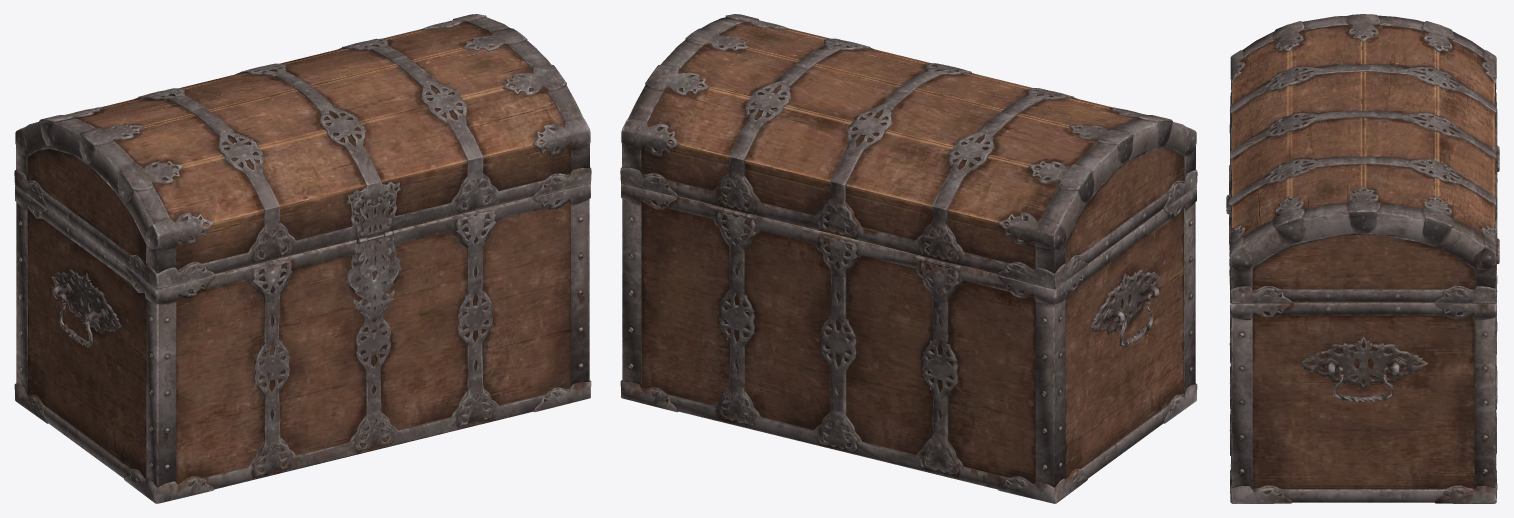
Rendered from treasure_chest.glb.
3 renders of one model, left to right at view 1: azimuth 30°, elevation 25°; view 2: azimuth 150°, elevation 25°; view 3: azimuth 270°, elevation 25°, orthographic. The views are drawn at different scales.
Parts seen in each view (by area): view 1: treasure_chest_bottom, treasure_chest_lid, treasure_chest_lock; view 2: treasure_chest_bottom, treasure_chest_lid; view 3: treasure_chest_lid, treasure_chest_bottom, treasure_chest_handle_right.
Part boxes in pixels (left/top/right/bottom): treasure_chest_bottom: left=14, top=183, right=591, bottom=503; treasure_chest_lid: left=14, top=14, right=591, bottom=288; treasure_chest_lock: left=349, top=233, right=399, bottom=322; treasure_chest_bottom: left=620, top=183, right=1197, bottom=503; treasure_chest_lid: left=620, top=14, right=1197, bottom=288; treasure_chest_lid: left=1226, top=14, right=1499, bottom=303; treasure_chest_bottom: left=1229, top=153, right=1499, bottom=503; treasure_chest_handle_right: left=1320, top=365, right=1406, bottom=401.
Size of the model in its own units: 0.959 by 0.6188 by 0.5227.
1 material, 1 textured.
